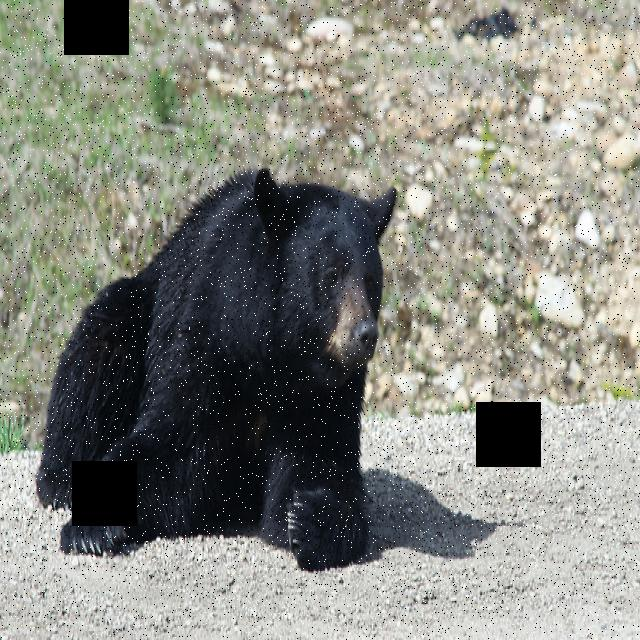Bear: (27, 147, 398, 580)
